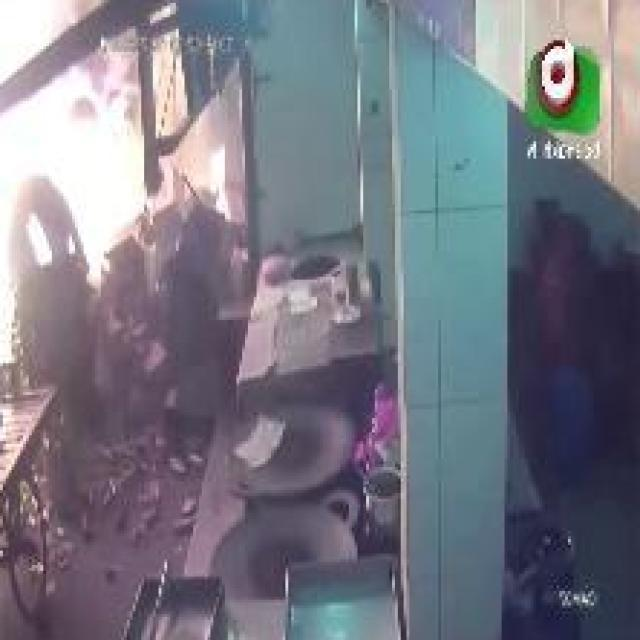smoke: (0, 0, 162, 363)
